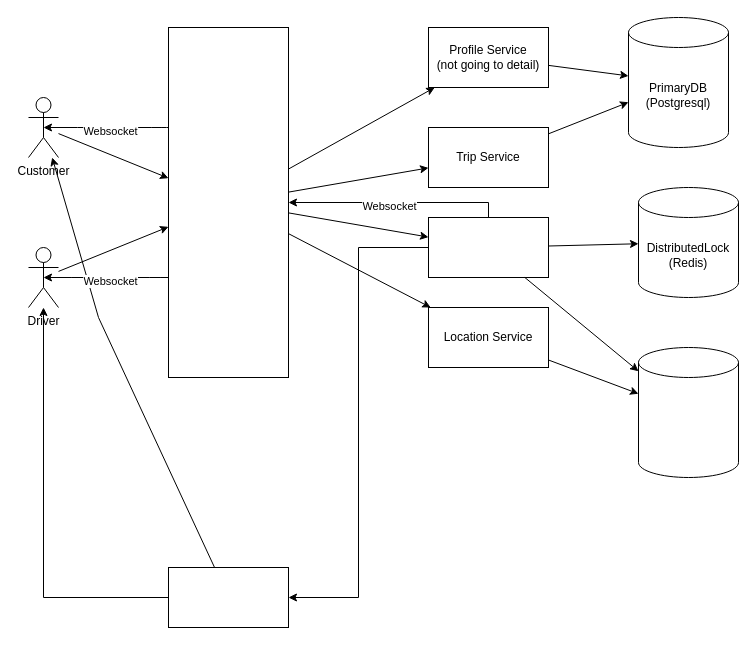
This 756x645 diagram has some shape labels left out. Here are the shapes that lost their labels. From the top down, the box of each, then its label:
(168, 26, 288, 378): API Gateway Loadbalancing SSL Auth Rate limiting
(428, 216, 548, 278): Trip Matching Service
(638, 346, 738, 478): LocationDB (Redis)
(168, 566, 288, 628): Notification (FCM)
